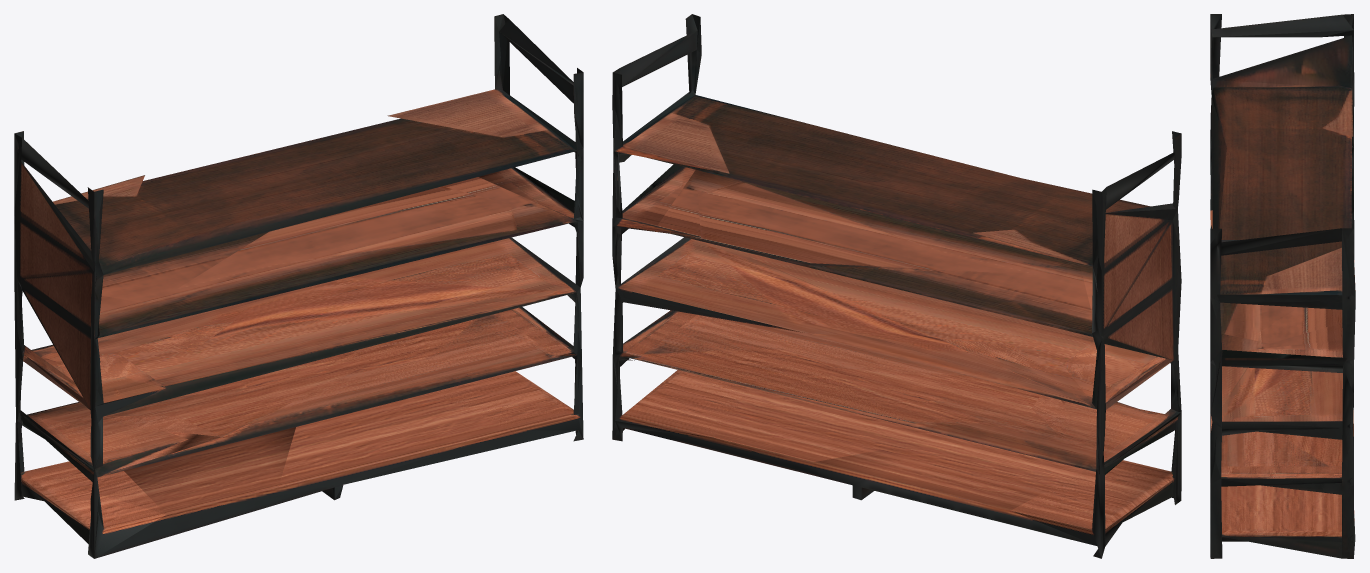
Rendered from PR_Shelf.fbx.
3 views of the same model, side by side, from view 1: azimuth 30°, elevation 25°; view 2: azimuth 150°, elevation 25°; view 3: azimuth 270°, elevation 25° (orthographic). The views are drawn at different scales.
Visible parts, largest first — view 1: Mesh_0; view 2: Mesh_0; view 3: Mesh_0.
Part boxes in pixels (x1,y1,x2,y2): Mesh_0: (14, 14, 583, 558); Mesh_0: (612, 14, 1181, 558); Mesh_0: (1210, 14, 1355, 558).
Size of the model in its own units: 187 by 134 by 53.64.
Materials: 1 (1 with a texture image).
